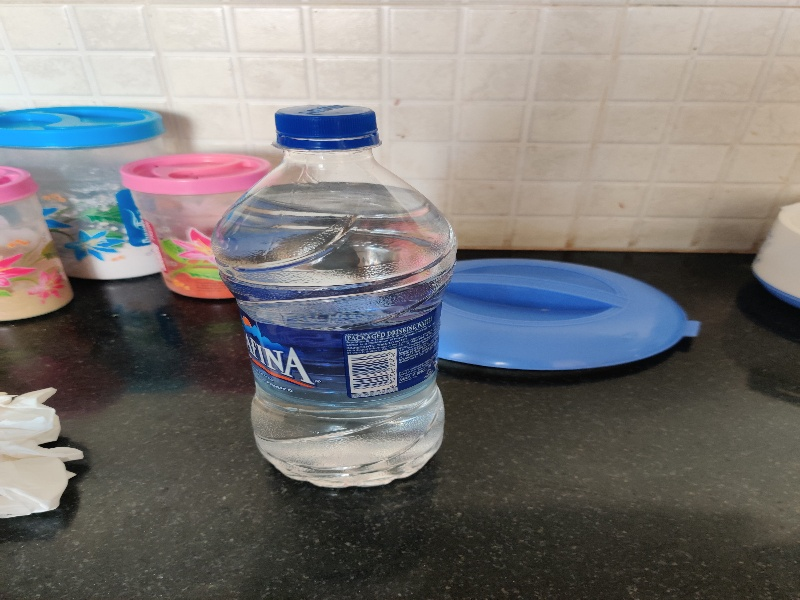bottle: (212, 100, 457, 489)
